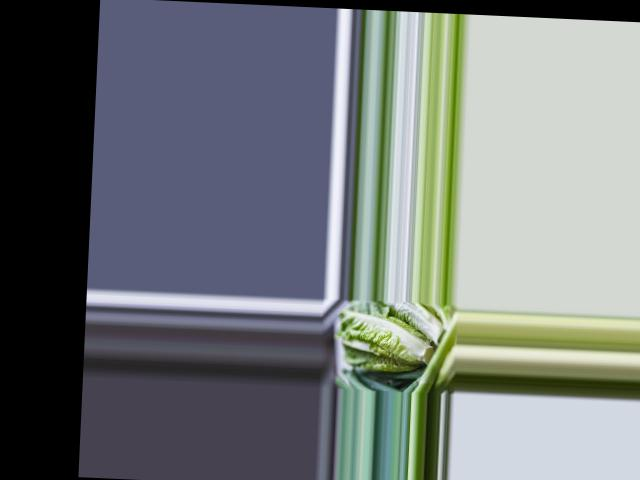lettuce: (334, 308, 436, 375)
